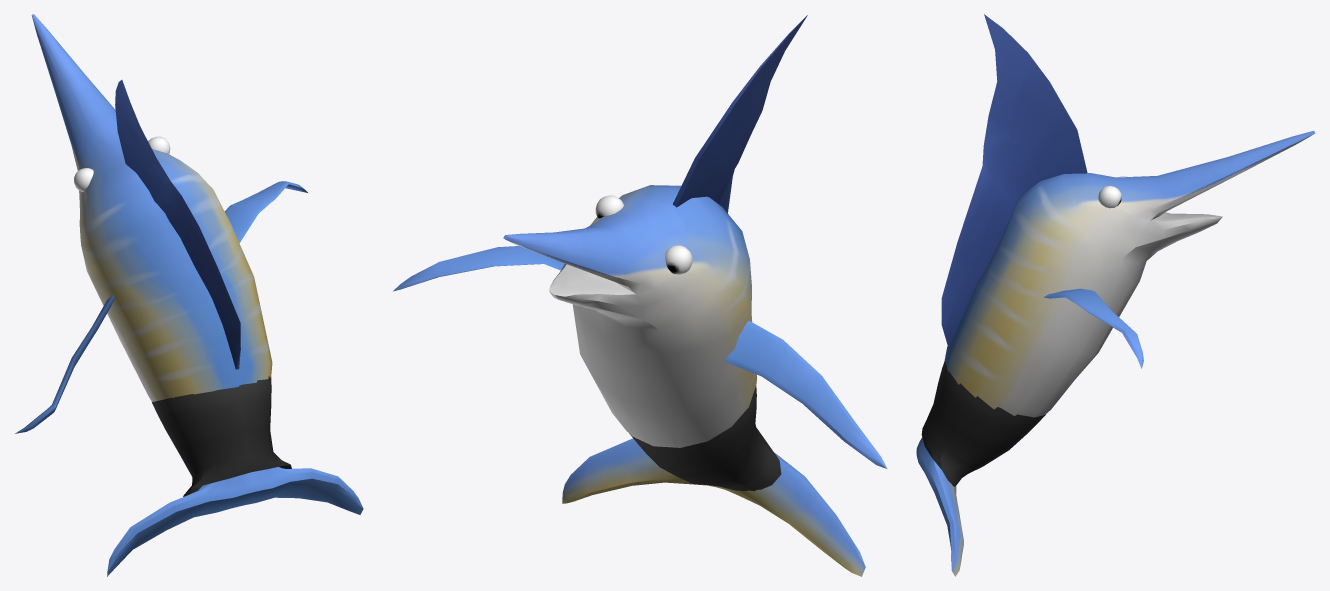
The model's file is kajiki_walk_a_04.fbx.
3 views of the same model, side by side, from view 1: azimuth 30°, elevation 25°; view 2: azimuth 150°, elevation 25°; view 3: azimuth 270°, elevation 25° (orthographic). The views are drawn at different scales.
Parts seen in each view (by area): view 1: w_a_04; view 2: w_a_04; view 3: w_a_04.
Part boxes in pixels (x1,y1,x2,y2): w_a_04: (15,14,363,576); w_a_04: (393,15,887,576); w_a_04: (916,14,1315,576).
Bounding box in the file's own units: 1.96 × 2.51 × 1.98.
Materials: 1 (1 with a texture image).
